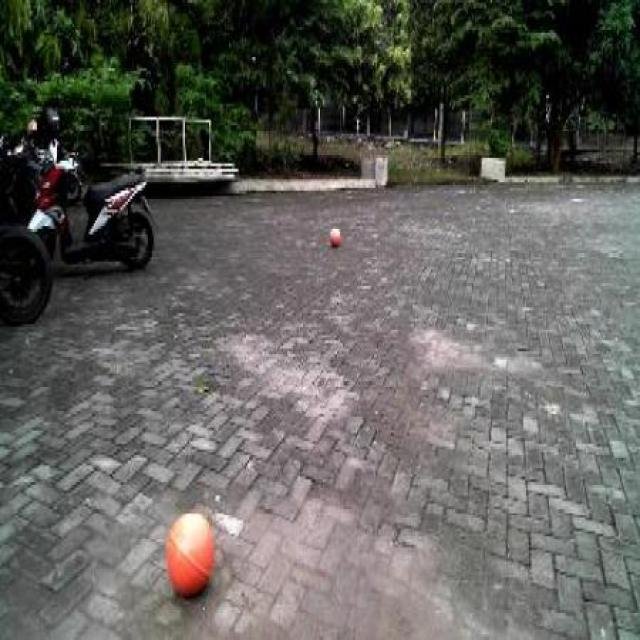buoy: (159, 496, 219, 605), (329, 218, 342, 248)
